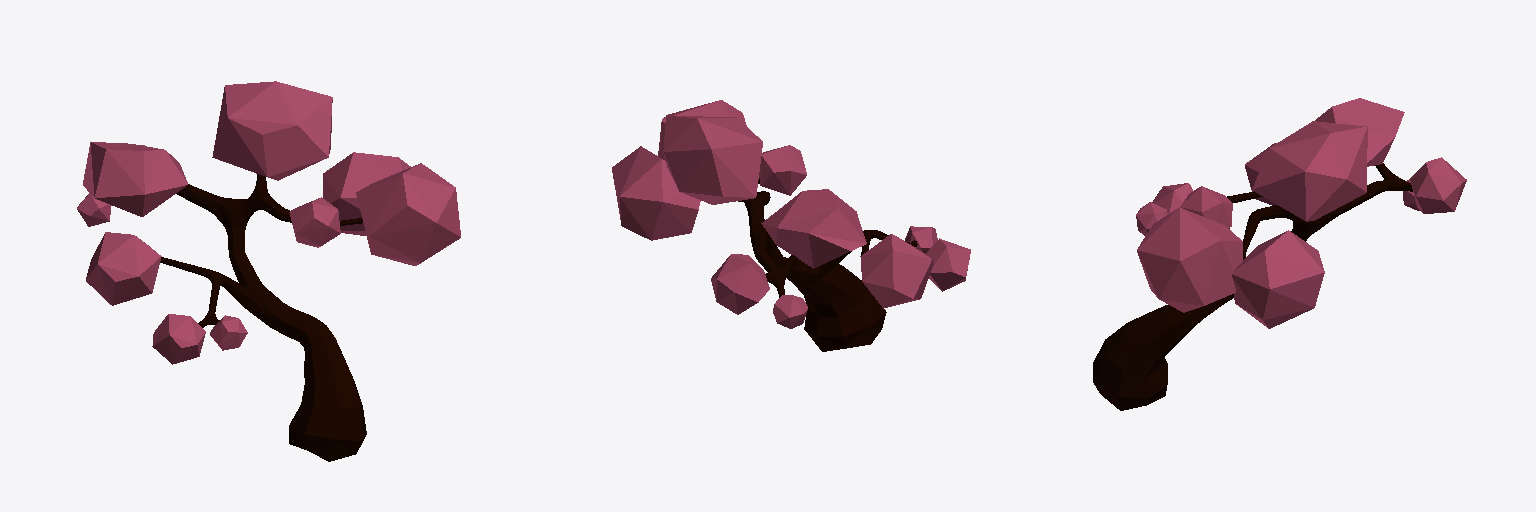
The model's file is tree.obj.
3 renders of one model, left to right at view 1: azimuth 30°, elevation 25°; view 2: azimuth 150°, elevation 25°; view 3: azimuth 270°, elevation 25°, orthographic.
Visible parts, largest first — view 1: tree_Plane, tree_leaves.002_Icosphere.002, tree_leaves.001_Icosphere.001, tree_leaves.009_Icosphere.009, tree_leaves.006_Icosphere.006, tree_leaves.000_Icosphere, tree_leaves.004_Icosphere.004, tree_leaves.003_Icosphere.003, tree_leaves.005_Icosphere.005, tree_leaves.008_Icosphere.008; view 2: tree_Plane, tree_leaves.002_Icosphere.002, tree_leaves.000_Icosphere, tree_leaves.009_Icosphere.009, tree_leaves.006_Icosphere.006, tree_leaves.007_Icosphere.007, tree_leaves.003_Icosphere.003, tree_leaves.004_Icosphere.004, tree_leaves.001_Icosphere.001, tree_leaves.008_Icosphere.008, tree_leaves.005_Icosphere.005; view 3: tree_Plane, tree_leaves.002_Icosphere.002, tree_leaves.001_Icosphere.001, tree_leaves.000_Icosphere, tree_leaves.009_Icosphere.009, tree_leaves.007_Icosphere.007, tree_leaves.003_Icosphere.003, tree_leaves.004_Icosphere.004, tree_leaves.005_Icosphere.005.
Boxes of the visible parts, x1,y1,x2,y2 form: tree_Plane: [160, 174, 366, 461]; tree_leaves.002_Icosphere.002: [212, 81, 332, 180]; tree_leaves.001_Icosphere.001: [356, 163, 460, 265]; tree_leaves.009_Icosphere.009: [83, 142, 187, 216]; tree_leaves.006_Icosphere.006: [86, 232, 161, 305]; tree_leaves.000_Icosphere: [323, 152, 410, 235]; tree_leaves.004_Icosphere.004: [152, 314, 205, 364]; tree_leaves.003_Icosphere.003: [289, 197, 340, 247]; tree_leaves.005_Icosphere.005: [210, 315, 247, 350]; tree_leaves.008_Icosphere.008: [77, 193, 111, 226]; tree_Plane: [738, 178, 917, 351]; tree_leaves.002_Icosphere.002: [663, 115, 762, 204]; tree_leaves.000_Icosphere: [612, 146, 700, 240]; tree_leaves.009_Icosphere.009: [761, 189, 866, 268]; tree_leaves.006_Icosphere.006: [860, 234, 933, 308]; tree_leaves.007_Icosphere.007: [711, 254, 769, 314]; tree_leaves.003_Icosphere.003: [759, 145, 806, 195]; tree_leaves.004_Icosphere.004: [926, 238, 970, 291]; tree_leaves.001_Icosphere.001: [658, 100, 746, 160]; tree_leaves.008_Icosphere.008: [773, 295, 807, 328]; tree_leaves.005_Icosphere.005: [905, 226, 937, 253]; tree_Plane: [1093, 163, 1412, 410]; tree_leaves.002_Icosphere.002: [1252, 121, 1367, 221]; tree_leaves.001_Icosphere.001: [1137, 207, 1242, 312]; tree_leaves.000_Icosphere: [1232, 230, 1324, 328]; tree_leaves.009_Icosphere.009: [1315, 98, 1404, 166]; tree_leaves.007_Icosphere.007: [1410, 157, 1466, 213]; tree_leaves.003_Icosphere.003: [1181, 186, 1232, 227]; tree_leaves.004_Icosphere.004: [1152, 183, 1192, 213]; tree_leaves.005_Icosphere.005: [1136, 202, 1168, 235].
Bounding box in the file's own units: 3.13 × 2.69 × 3.15.